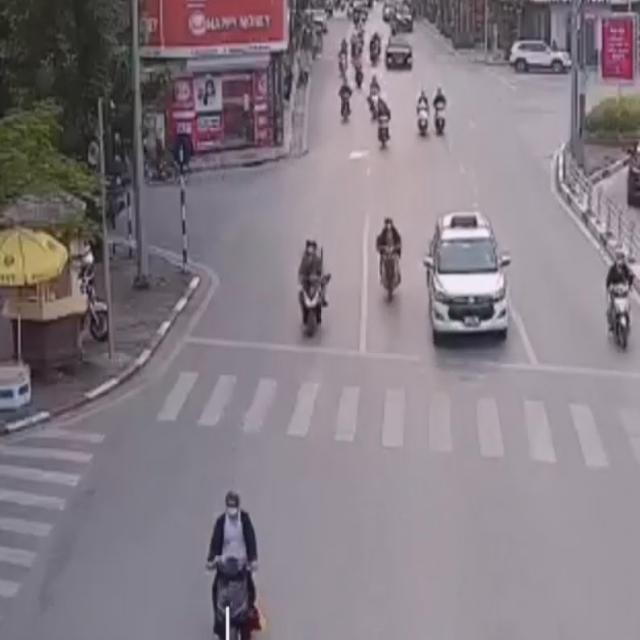car: (419, 207, 516, 348)
motorbike: (203, 486, 264, 640), (600, 245, 638, 355), (293, 236, 332, 342), (373, 211, 406, 309)
